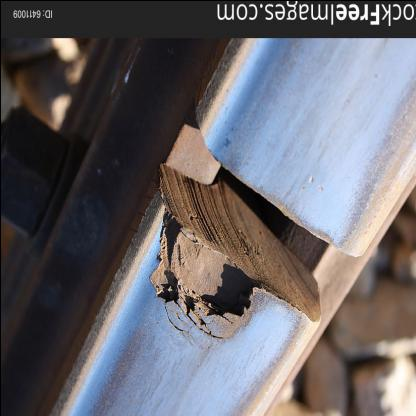Defective 2: (96, 83, 401, 380)
